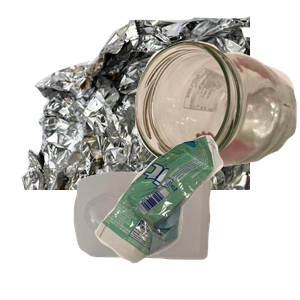glass: (132, 38, 300, 199)
metal: (19, 14, 259, 194)
plastic: (71, 169, 275, 300)
trash: (92, 133, 300, 300)
